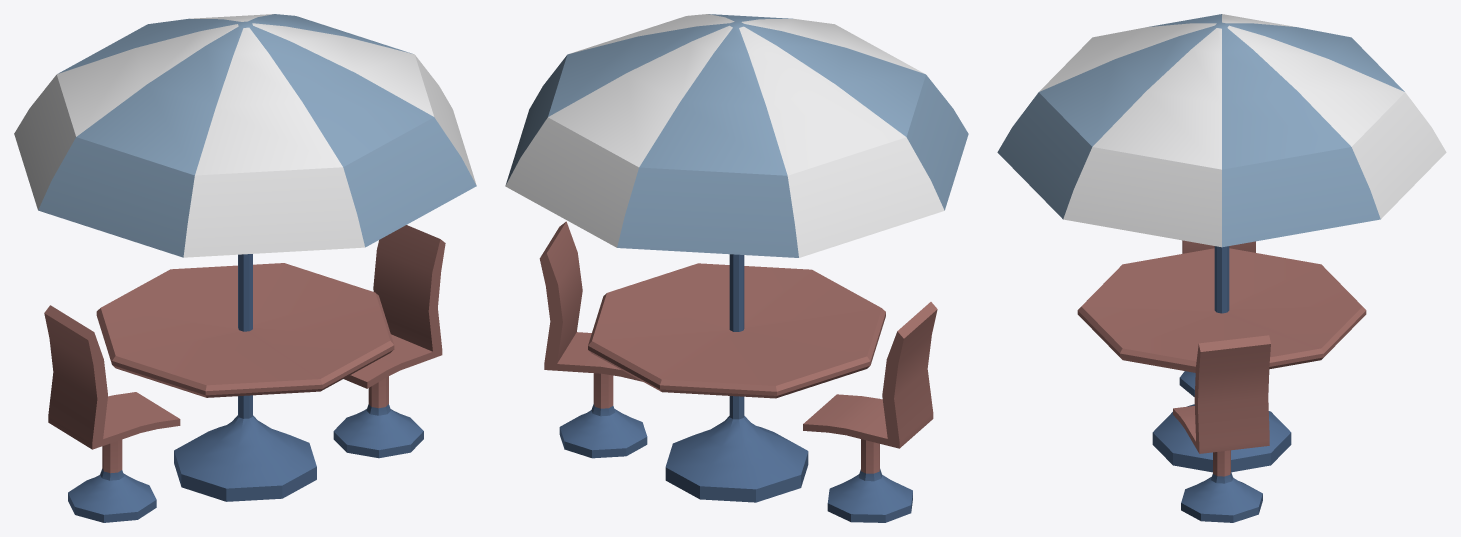
The model's file is outdoor-seating.fbx.
The picture shows the model from 3 angles, left to right: view 1: azimuth 30°, elevation 25°; view 2: azimuth 150°, elevation 25°; view 3: azimuth 270°, elevation 25°; orthographic projection. The views are drawn at different scales.
Parts seen in each view (by area): view 1: 12. outdoor-seating, outdoor-seeting-chair, outdoor-seeting-chair.002; view 2: 12. outdoor-seating, outdoor-seeting-chair, outdoor-seeting-chair.002; view 3: 12. outdoor-seating, outdoor-seeting-chair.002, outdoor-seeting-chair.
Boxes of the visible parts, x1,y1,x2,y2 form: 12. outdoor-seating: (14, 14, 476, 501); outdoor-seeting-chair: (44, 305, 180, 522); outdoor-seeting-chair.002: (333, 225, 445, 458); 12. outdoor-seating: (505, 14, 968, 502); outdoor-seeting-chair: (803, 302, 937, 522); outdoor-seeting-chair.002: (539, 221, 647, 458); 12. outdoor-seating: (997, 14, 1446, 472); outdoor-seeting-chair.002: (1173, 335, 1270, 522); outdoor-seeting-chair: (1179, 240, 1255, 396).
Bounding box in the file's own units: 3.02 × 3.11 × 3.02.
